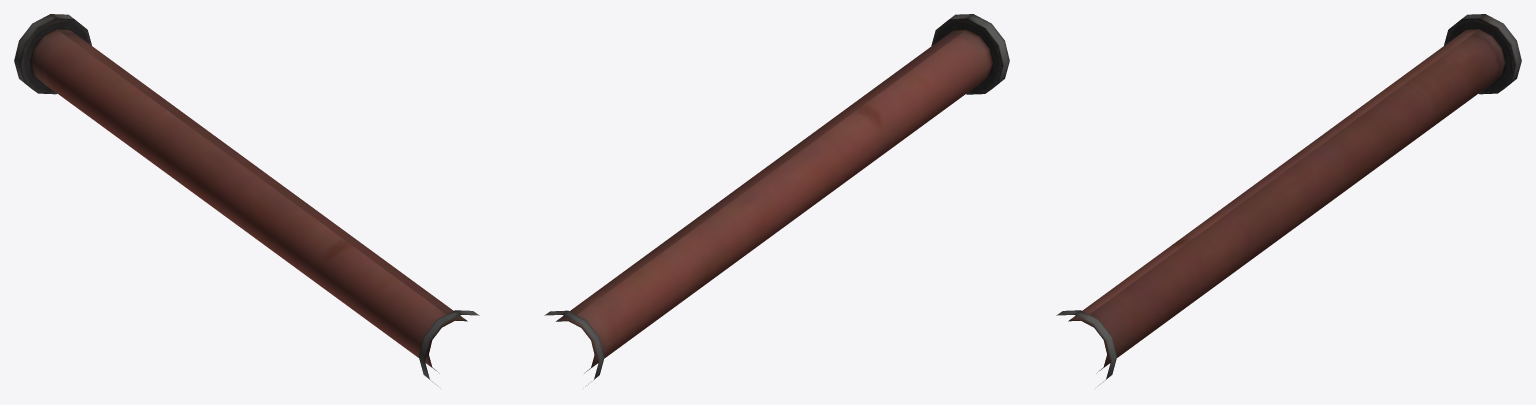
3 renders of one model, left to right at view 1: azimuth 30°, elevation 25°; view 2: azimuth 150°, elevation 25°; view 3: azimuth 330°, elevation 25°, orthographic.
Visible parts, largest first — view 1: body0_model0_lod0_mesh0; view 2: body0_model0_lod0_mesh0; view 3: body0_model0_lod0_mesh0.
Part boxes in pixels (<box>): body0_model0_lod0_mesh0: <box>14,14,479,386</box>; body0_model0_lod0_mesh0: <box>544,14,1009,386</box>; body0_model0_lod0_mesh0: <box>1056,14,1521,386</box>.
Bounding box in the file's own units: 13.13 × 13.13 × 128.
1 material, 1 textured.
